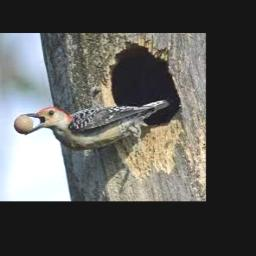Woodpecker: (20, 99, 170, 151)
